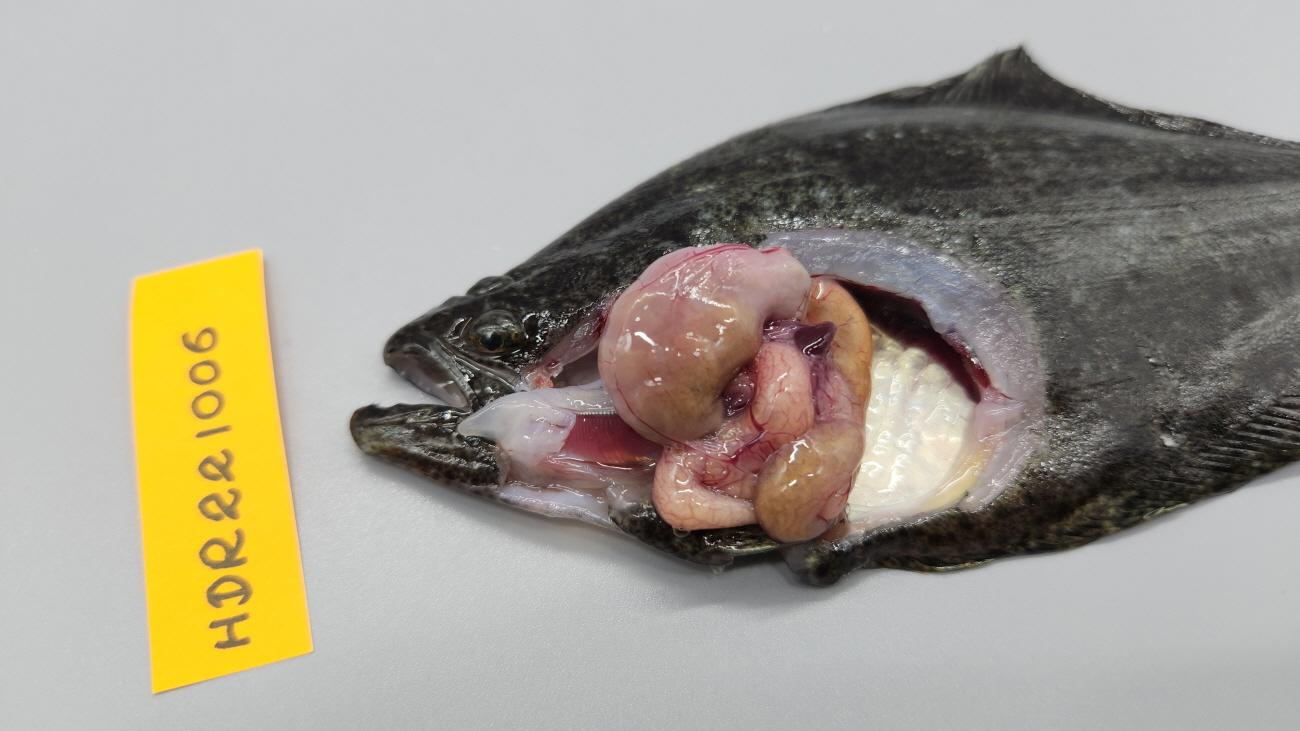POINN: (699, 341, 816, 475)
POSPN: (795, 321, 837, 355)
